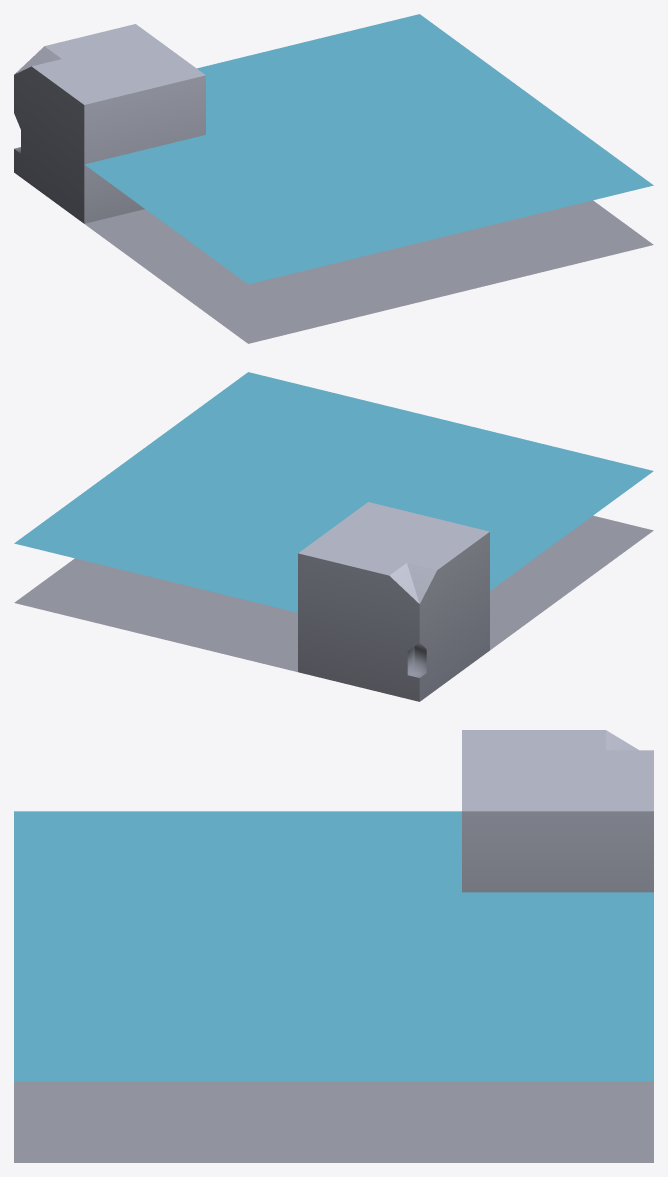
Rendered from fountain-corner-inner-square.glb.
The picture shows the model from 3 angles, top to bottom: view 1: azimuth 30°, elevation 25°; view 2: azimuth 150°, elevation 25°; view 3: azimuth 270°, elevation 25°; orthographic projection. The views are drawn at different scales.
Parts seen in each view (by area): view 1: fountain-corner-inner-square; view 2: fountain-corner-inner-square; view 3: fountain-corner-inner-square.
Boxes of the visible parts, bbox=[...] form: fountain-corner-inner-square: bbox=[14, 14, 653, 343]; fountain-corner-inner-square: bbox=[14, 372, 653, 701]; fountain-corner-inner-square: bbox=[14, 730, 653, 1162].
Bounding box in the file's own units: 1 × 0.28 × 1.
